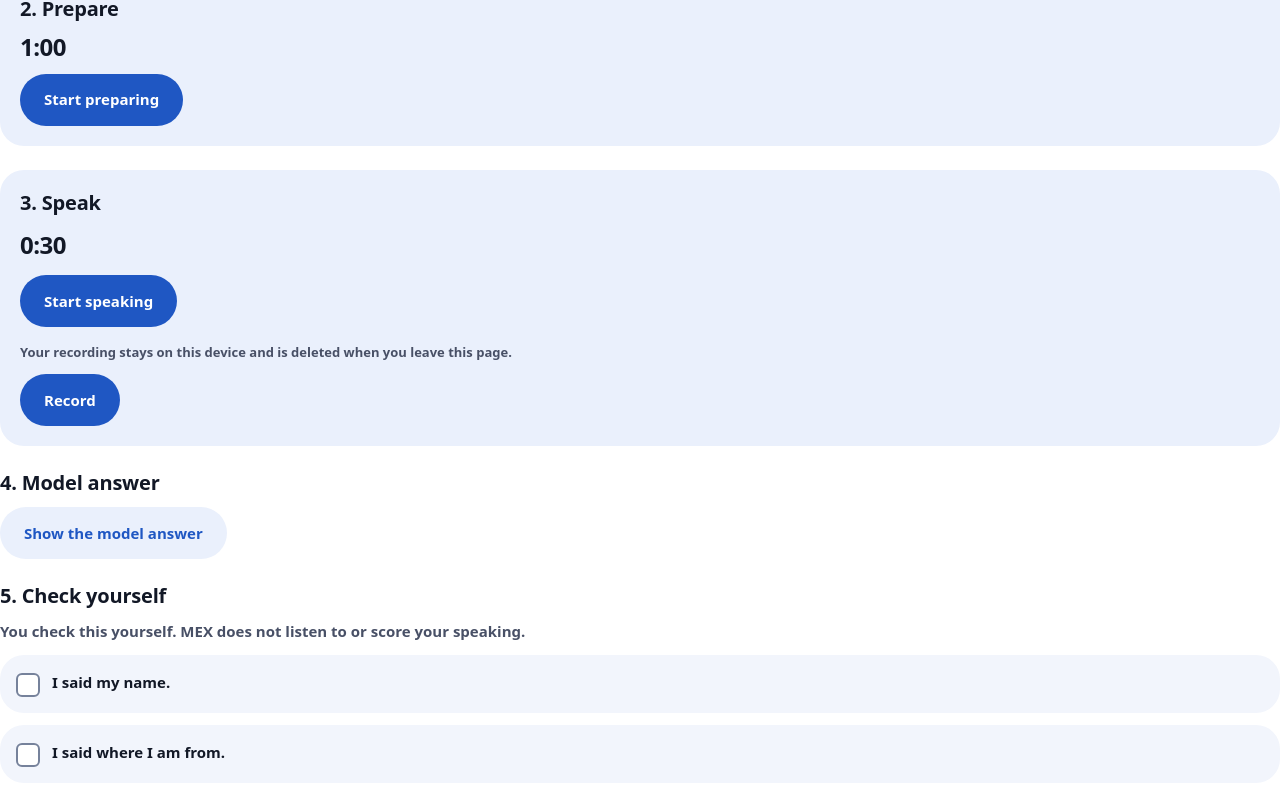
SpeakingPage › deletes the clip and stops recording when the learner leaves
(page scrolled)
Click the button "Record": [70, 400] box [20,374,120,426]
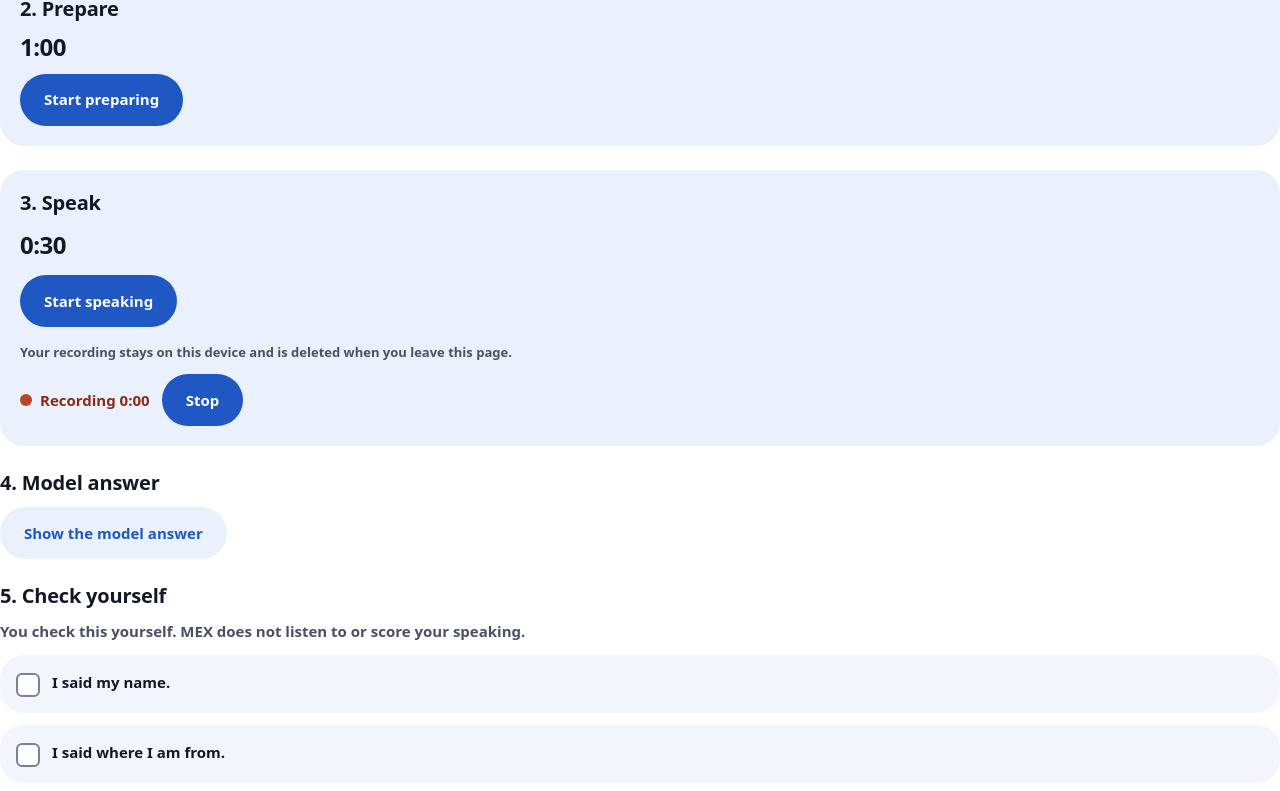
Click the button "Stop": [202, 400] box [162,374,243,426]
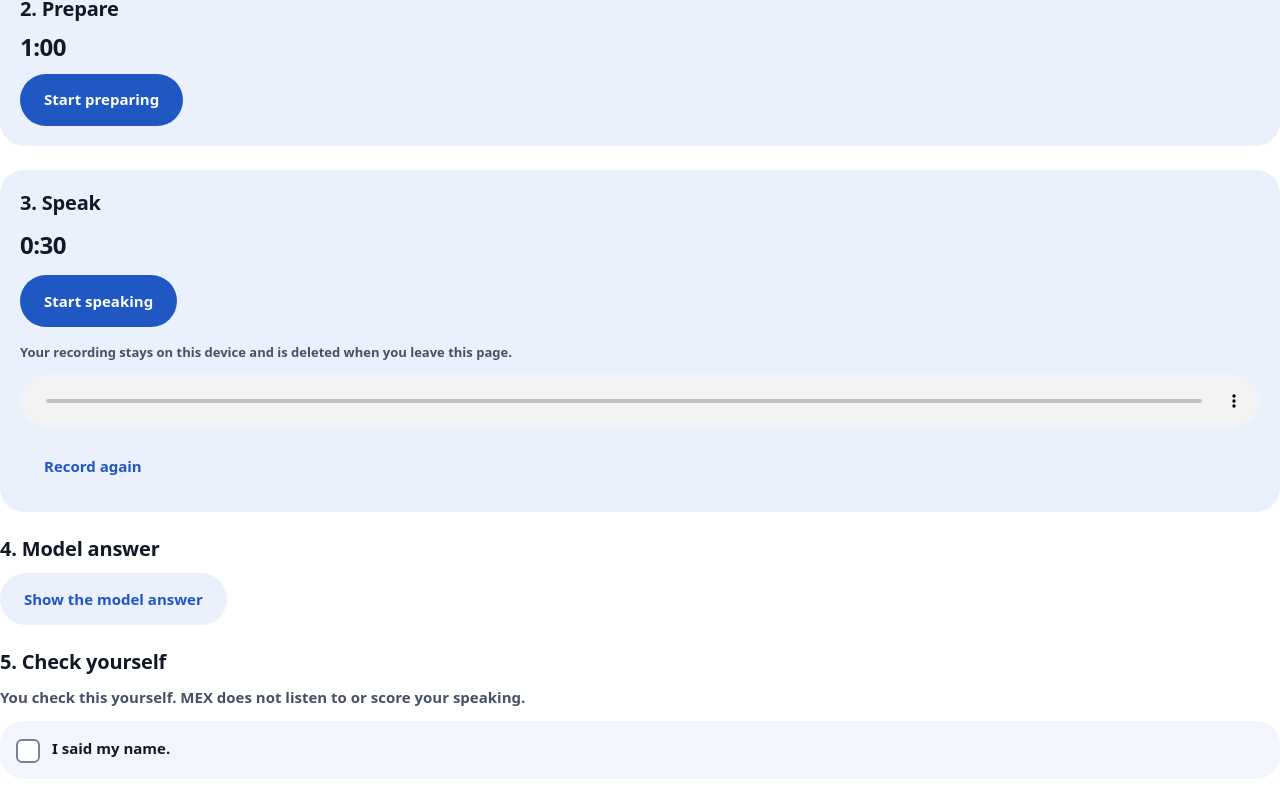
Click the button "Record again": [93, 466] box [20,440,166,492]
(page scrolled)
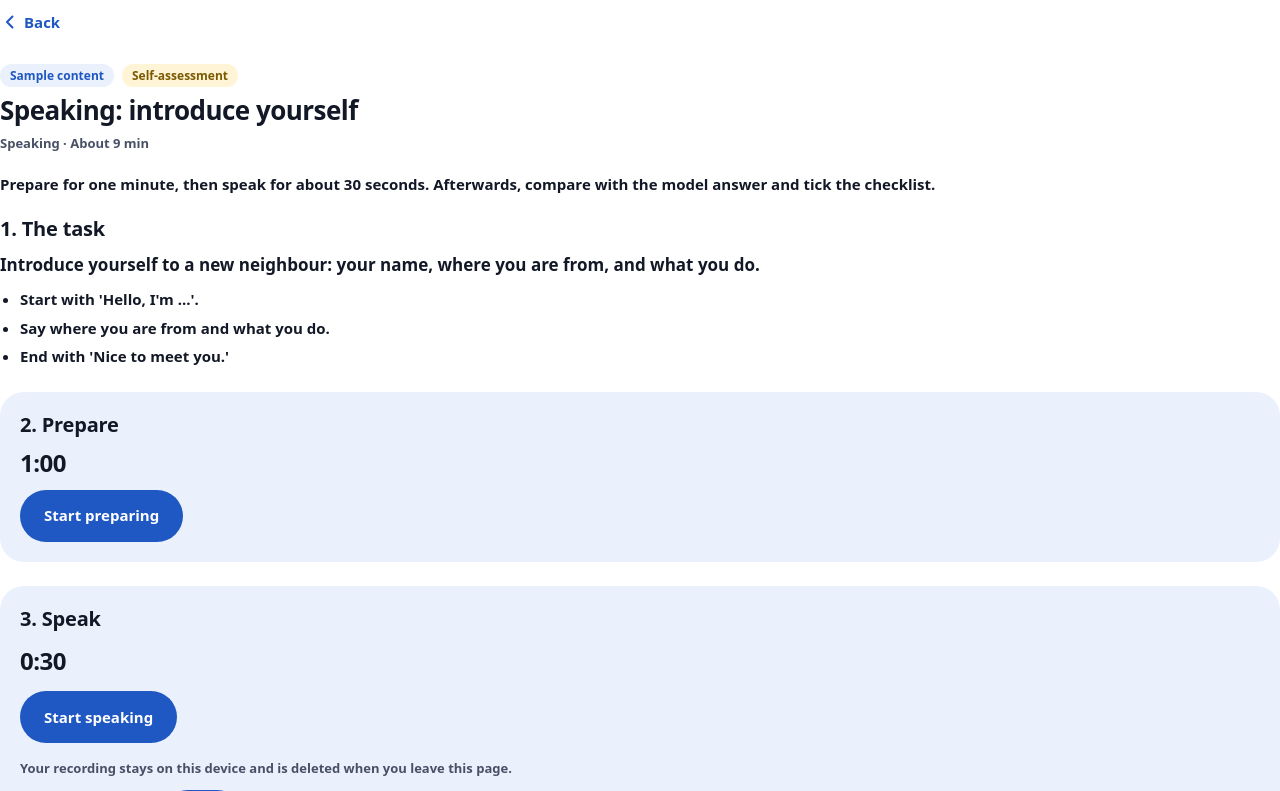
Leave while the second recording is still running.
Click the link "Back": [30, 22] box [0,12,60,32]
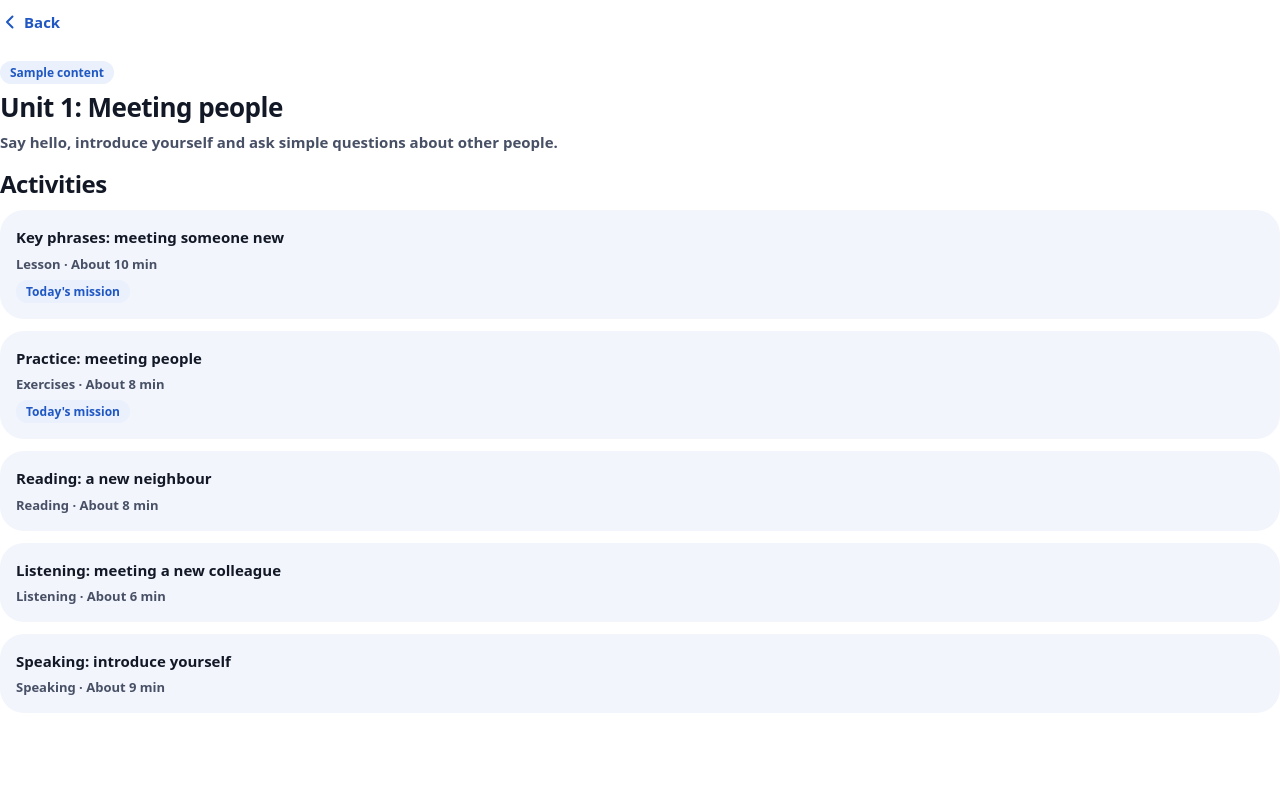
Check: the heading "Activities" is shown, box [0,167,107,200]
